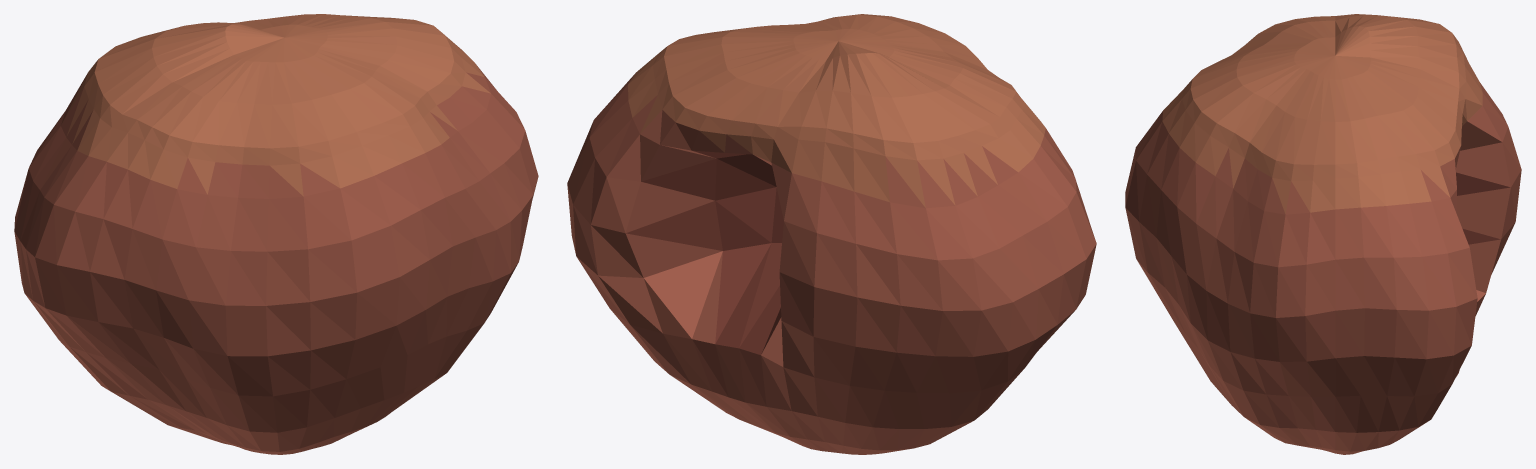
The model's file is rock.glb.
3 views of the same model, side by side, from view 1: azimuth 30°, elevation 25°; view 2: azimuth 150°, elevation 25°; view 3: azimuth 270°, elevation 25° (orthographic). The views are drawn at different scales.
Parts seen in each view (by area): view 1: Godfrey_Sandstone_Boulder; view 2: Godfrey_Sandstone_Boulder; view 3: Godfrey_Sandstone_Boulder.
Boxes of the visible parts, x1,y1,x2,y2 form: Godfrey_Sandstone_Boulder: (14,14,538,454); Godfrey_Sandstone_Boulder: (567,14,1096,454); Godfrey_Sandstone_Boulder: (1125,14,1521,454).
Size of the model in its own units: 2.09 by 1.68 by 1.59.
